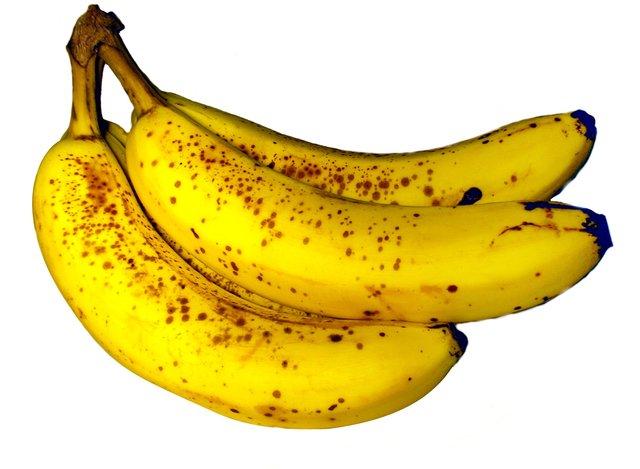banana: (26, 3, 620, 436)
